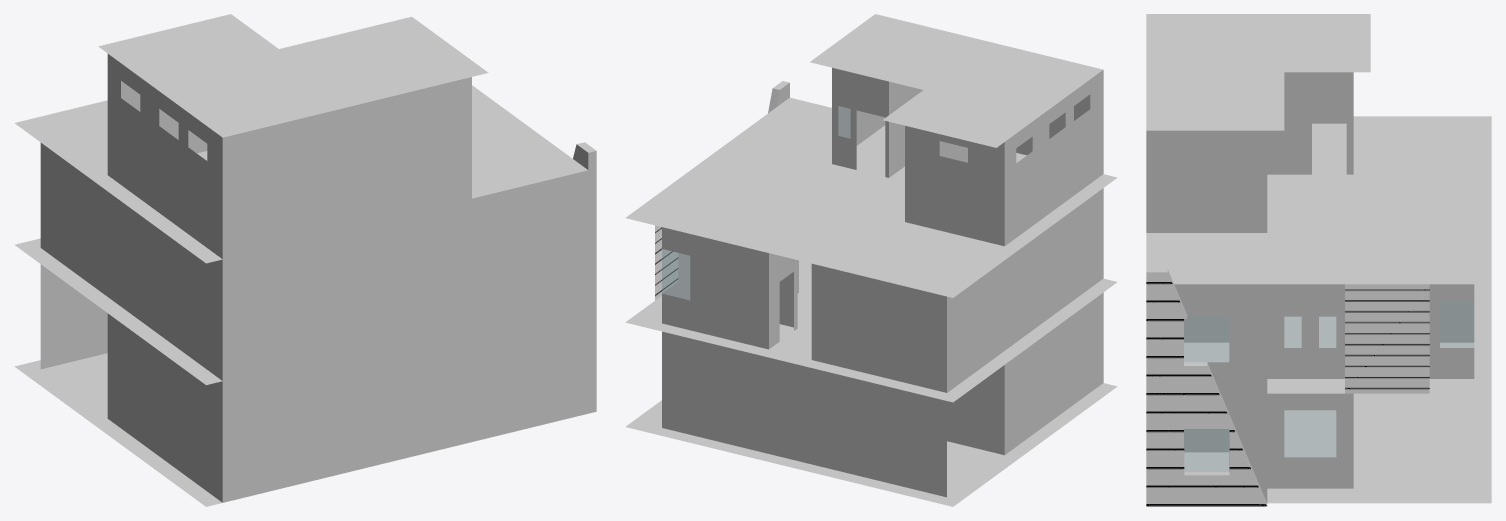
Rendered from sunnyHouse.glb.
3 views of the same model, side by side, from view 1: azimuth 30°, elevation 25°; view 2: azimuth 150°, elevation 25°; view 3: azimuth 270°, elevation 25° (orthographic). The views are drawn at different scales.
Parts seen in each view (by area): view 1: Cube.013, Plane.005, Cube.007, Cube.002, Plane.004, Cube.004, Cube, Plane.003, Cube.012, Cube.009, Plane.008, Plane (+5 smaller); view 2: Plane.003, Plane, Cube.013, Cube.009, Plane.004, Plane.002, Cube.007, Cube.002, Plane.008, Cube.005, Cube.012, Cube.011 (+6 smaller); view 3: Plane.003, Plane.008, Plane.004, Decoratory, Cube.013, Cube.012, Cube.004, Plane.006, Plane.001, Cube.006, Cube, Plane.002 (+3 smaller).
Part boxes in pixels (left/top/right/bottom): Cube.013: left=107, top=25, right=338, bottom=259; Plane.005: left=339, top=93, right=471, bottom=474; Cube.007: left=131, top=209, right=338, bottom=380; Cube.002: left=131, top=331, right=338, bottom=502; Plane.004: left=98, top=14, right=488, bottom=136; Cube.004: left=472, top=122, right=588, bottom=320; Cube: left=472, top=292, right=588, bottom=441; Plane.003: left=14, top=85, right=586, bottom=263; Cube.012: left=384, top=44, right=471, bottom=214; Cube.009: left=40, top=142, right=107, bottom=285; Plane.008: left=14, top=353, right=222, bottom=506; Plane: left=40, top=264, right=107, bottom=369; Plane.003: left=626, top=97, right=1117, bottom=297; Plane: left=662, top=331, right=946, bottom=497; Cube.013: left=905, top=45, right=1103, bottom=246; Cube.009: left=847, top=231, right=992, bottom=392; Plane.004: left=810, top=14, right=1102, bottom=147; Plane.002: left=625, top=260, right=1117, bottom=402; Cube.007: left=1025, top=188, right=1103, bottom=335; Cube.002: left=1025, top=292, right=1103, bottom=439; Plane.008: left=625, top=383, right=1117, bottom=506; Cube.005: left=662, top=186, right=784, bottom=340; Cube.012: left=832, top=67, right=922, bottom=177; Cube.011: left=733, top=217, right=797, bottom=349; Plane.003: left=1146, top=116, right=1491, bottom=284; Plane.008: left=1184, top=393, right=1491, bottom=503; Plane.004: left=1146, top=14, right=1370, bottom=130; Decoratory: left=1146, top=268, right=1267, bottom=506; Cube.013: left=1146, top=14, right=1353, bottom=174; Cube.012: left=1146, top=115, right=1267, bottom=232; Cube.004: left=1146, top=233, right=1267, bottom=393; Plane.006: left=1345, top=284, right=1429, bottom=393; Plane.001: left=1267, top=393, right=1353, bottom=488; Cube.006: left=1267, top=233, right=1353, bottom=378; Cube: left=1184, top=342, right=1267, bottom=502; Plane.002: left=1184, top=284, right=1491, bottom=393.
Bounding box in the file's own units: 14.33 × 12.8 × 12.19.
3 materials, 1 textured.
